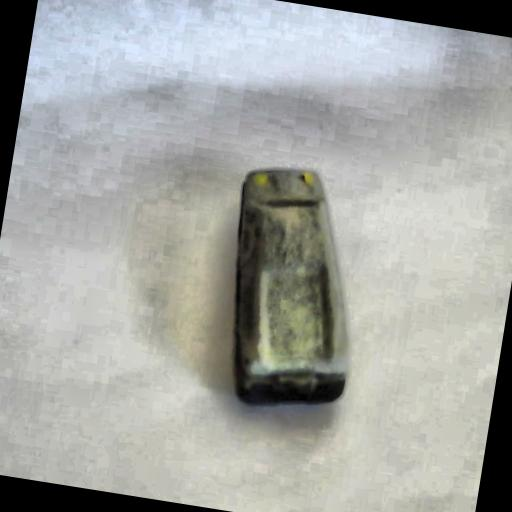normal_car: (205, 154, 382, 422)
